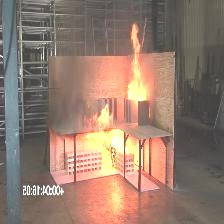fire: (108, 17, 158, 115), (82, 103, 133, 189)
